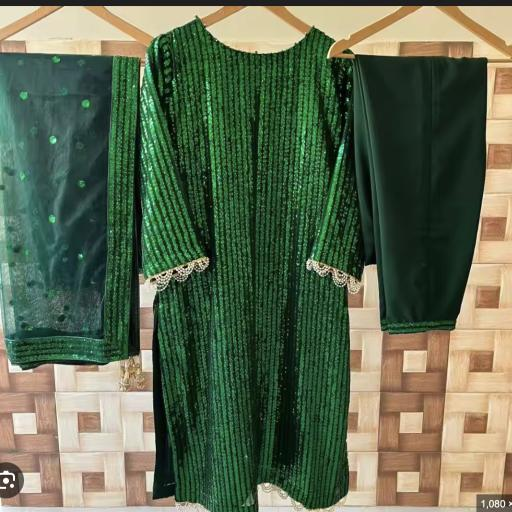Dupatta: (0, 28, 145, 372)
Kameez: (134, 16, 370, 512)
Shalwar: (340, 28, 488, 339)
